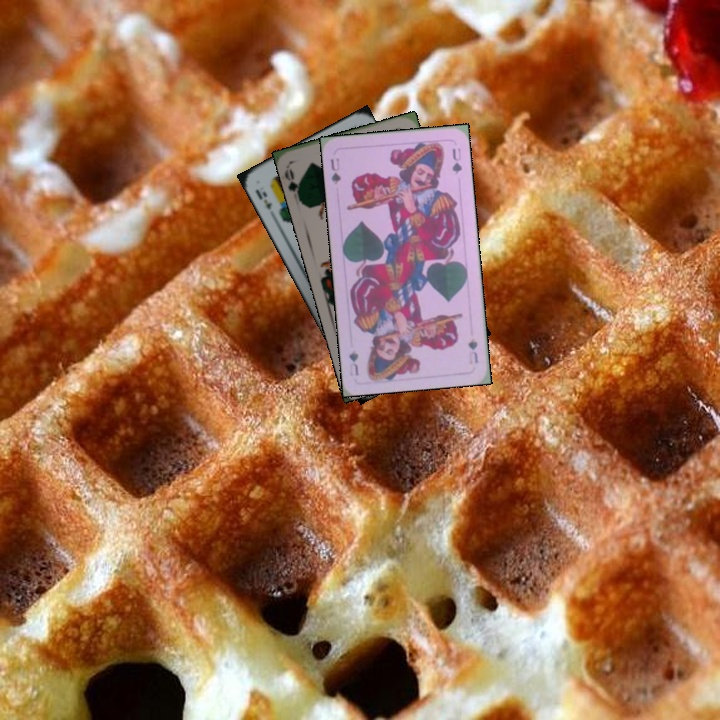EK: (251, 185, 275, 212)
GO: (281, 163, 304, 202)
GU: (326, 154, 343, 187), (464, 334, 480, 367)
